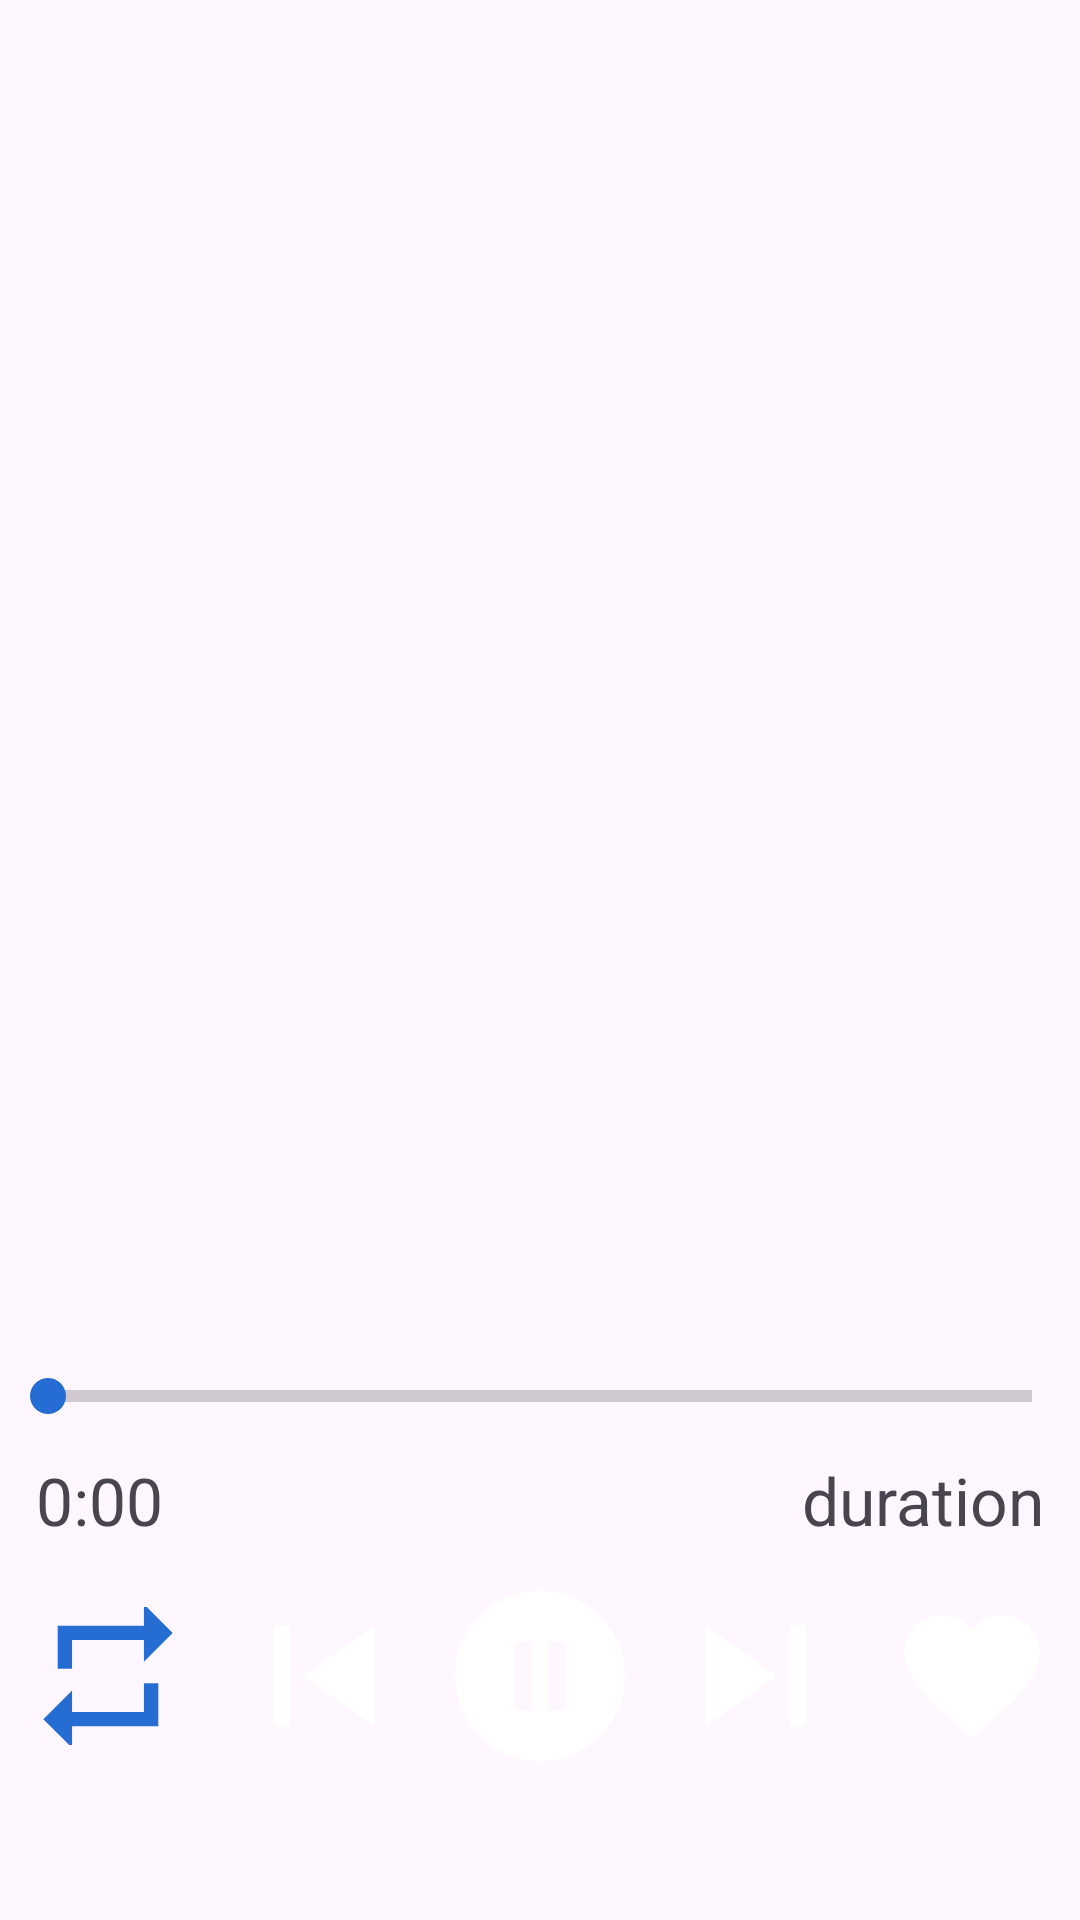

Locate icon controls on the screen. Image size 1080x1920, boxes as (x1, y1, x2, y2).
repeat: (43, 1607, 173, 1745)
